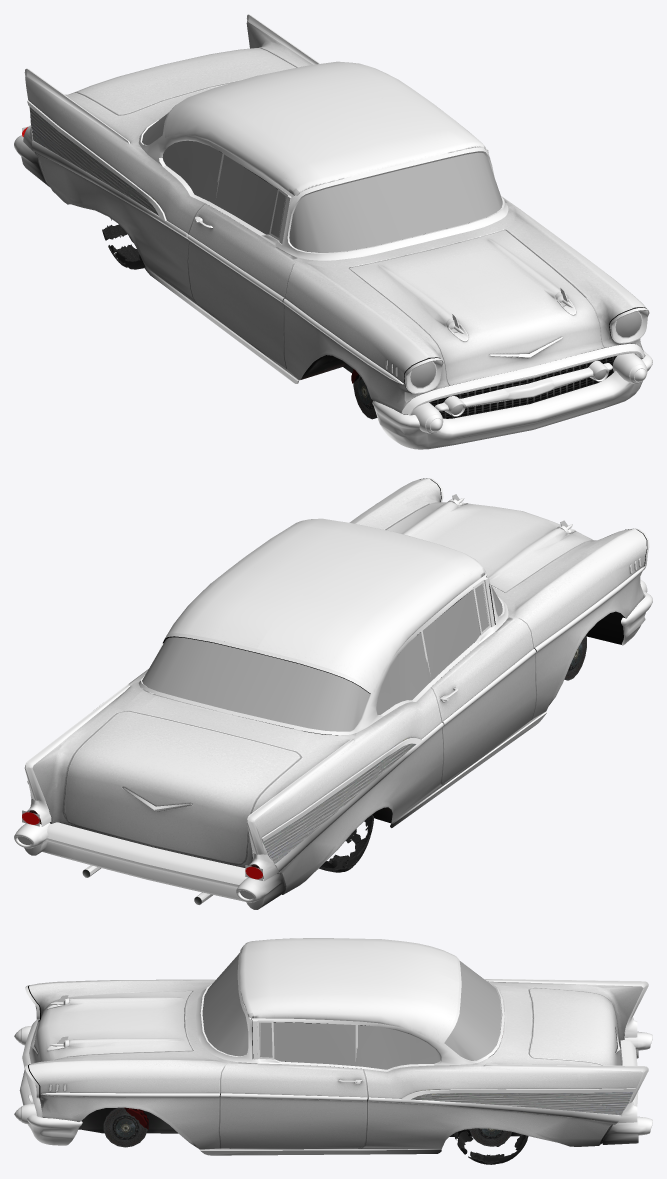
File: 25_BelAir.fbx
3 renders of one model, top to bottom at view 1: azimuth 30°, elevation 25°; view 2: azimuth 150°, elevation 25°; view 3: azimuth 270°, elevation 25°, orthographic. The views are drawn at different scales.
Visible parts, largest first — view 1: body_duco, body_chrome, body_kit_00, body_glass, body_matte, body_duco2; view 2: body_duco, body_chrome, body_glass, body_kit_00, body_duco2, body_matte; view 3: body_duco, body_chrome, body_glass, body_kit_00, body_duco2, Rotor (×2), body_matte.
Part boxes in pixels (left/top/right/bottom): body_duco: left=25, top=22, right=645, bottom=412; body_chrome: left=14, top=14, right=652, bottom=449; body_kit_00: left=349, top=230, right=603, bottom=385; body_glass: left=142, top=112, right=641, bottom=414; body_matte: left=219, top=151, right=646, bottom=418; body_duco2: left=30, top=107, right=158, bottom=215; body_duco: left=31, top=478, right=646, bottom=894; body_chrome: left=14, top=478, right=652, bottom=909; body_glass: left=18, top=583, right=502, bottom=899; body_kit_00: left=386, top=501, right=593, bottom=592; body_duco2: left=143, top=689, right=415, bottom=863; body_matte: left=82, top=478, right=647, bottom=904; body_duco: left=29, top=938, right=643, bottom=1149; body_chrome: left=14, top=944, right=652, bottom=1155; body_glass: left=35, top=953, right=501, bottom=1087; body_kit_00: left=29, top=991, right=192, bottom=1063; body_duco2: left=411, top=1092, right=633, bottom=1115; Rotor (×2): left=103, top=1107, right=512, bottom=1147; body_matte: left=28, top=985, right=602, bottom=1148.
Size of what is drawn, in the model's own units: 1.83 by 1.36 by 4.98.
